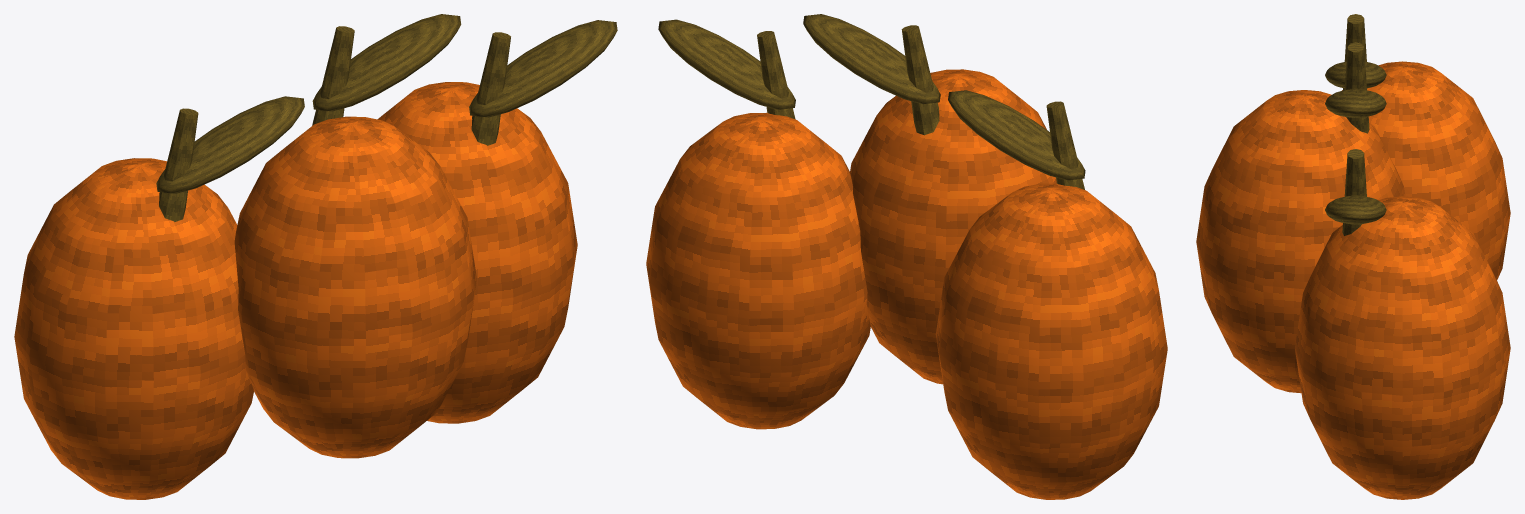
The model's file is fruta-1.glb.
3 views of the same model, side by side, from view 1: azimuth 30°, elevation 25°; view 2: azimuth 150°, elevation 25°; view 3: azimuth 270°, elevation 25° (orthographic). The views are drawn at different scales.
Parts seen in each view (by area): view 1: Fruta.001, Pedúnculo.001; view 2: Fruta.001, Pedúnculo.001; view 3: Fruta.001, Pedúnculo.001.
Part boxes in pixels (left/top/right/bottom): Fruta.001: left=14, top=82, right=577, bottom=499; Pedúnculo.001: left=156, top=14, right=617, bottom=221; Fruta.001: left=646, top=69, right=1167, bottom=499; Pedúnculo.001: left=658, top=14, right=1085, bottom=189; Fruta.001: left=1196, top=61, right=1510, bottom=499; Pedúnculo.001: left=1325, top=14, right=1386, bottom=235.
Size of the model in its own units: 1.22 by 0.9154 by 0.67.
Materials: 2 (2 with a texture image).
